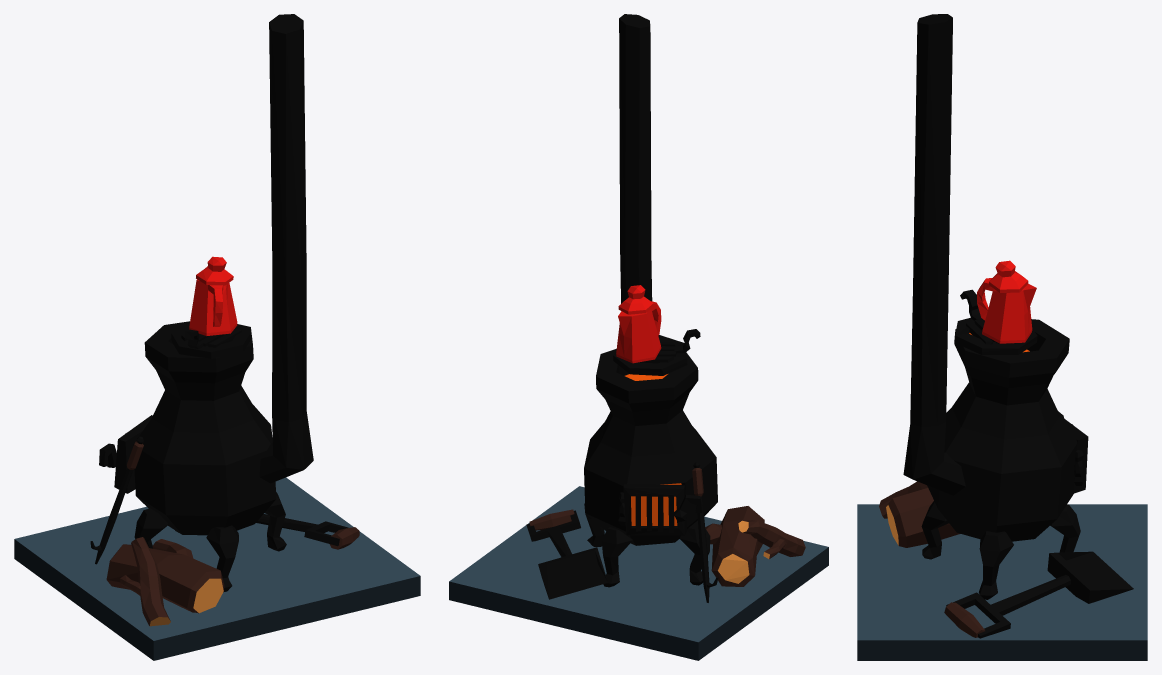
Rendered from stove.obj.
The picture shows the model from 3 angles, left to right: view 1: azimuth 30°, elevation 25°; view 2: azimuth 150°, elevation 25°; view 3: azimuth 270°, elevation 25°; orthographic projection. The views are drawn at different scales.
Visible parts, largest first — view 1: group715680428, group689192553, group997120683, group1204341888, group35413673, group1885997043, group521621984; view 2: group715680428, group689192553, group1885997043, group997120683, group1204341888, group35413673, group521621984; view 3: group715680428, group689192553, group1885997043, group1204341888, group997120683.
Boxes of the visible parts, x1=… form: group715680428: x1=99, y1=14, x2=313, y2=592; group689192553: x1=14, y1=477, x2=420, y2=660; group997120683: x1=106, y1=539, x2=224, y2=613; group1204341888: x1=189, y1=256, x2=237, y2=335; group35413673: x1=120, y1=537, x2=170, y2=626; group1885997043: x1=256, y1=514, x2=359, y2=549; group521621984: x1=90, y1=436, x2=143, y2=564; group715680428: x1=584, y1=14, x2=717, y2=587; group689192553: x1=449, y1=486, x2=828, y2=660; group1885997043: x1=526, y1=509, x2=607, y2=599; group997120683: x1=705, y1=506, x2=764, y2=586; group1204341888: x1=616, y1=285, x2=661, y2=363; group35413673: x1=738, y1=520, x2=805, y2=559; group521621984: x1=692, y1=462, x2=718, y2=602; group715680428: x1=903, y1=14, x2=1088, y2=599; group689192553: x1=857, y1=504, x2=1147, y2=660; group1885997043: x1=944, y1=551, x2=1133, y2=638; group1204341888: x1=977, y1=260, x2=1036, y2=343; group997120683: x1=886, y1=488, x2=960, y2=547.
Size of the model in its own units: 0.42 by 0.8597 by 0.38.
